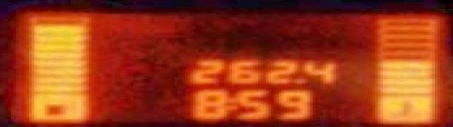-: (291, 75, 307, 85)
2: (187, 58, 221, 84), (263, 58, 294, 84)
4: (302, 59, 333, 83)
5: (231, 86, 268, 119)
6: (226, 57, 260, 81)
8: (187, 88, 224, 119)
9: (273, 87, 310, 120)
X: (227, 95, 232, 111)
